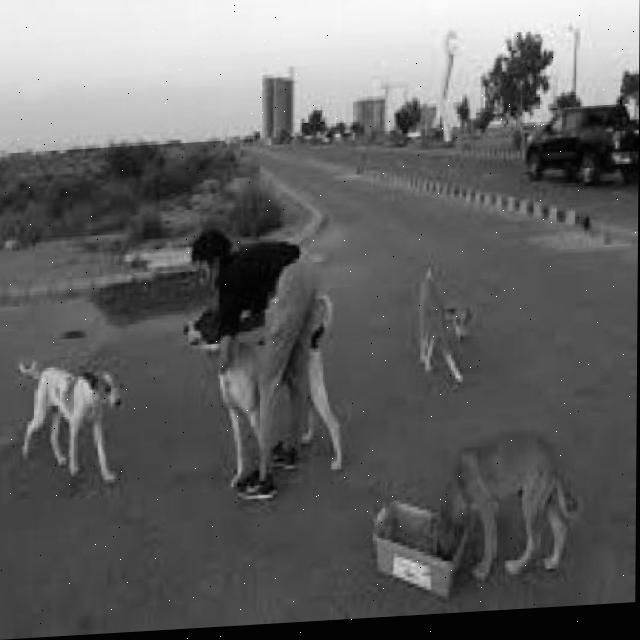Dog: (177, 293, 363, 498), (416, 389, 576, 612), (11, 330, 131, 498), (406, 253, 483, 392)
